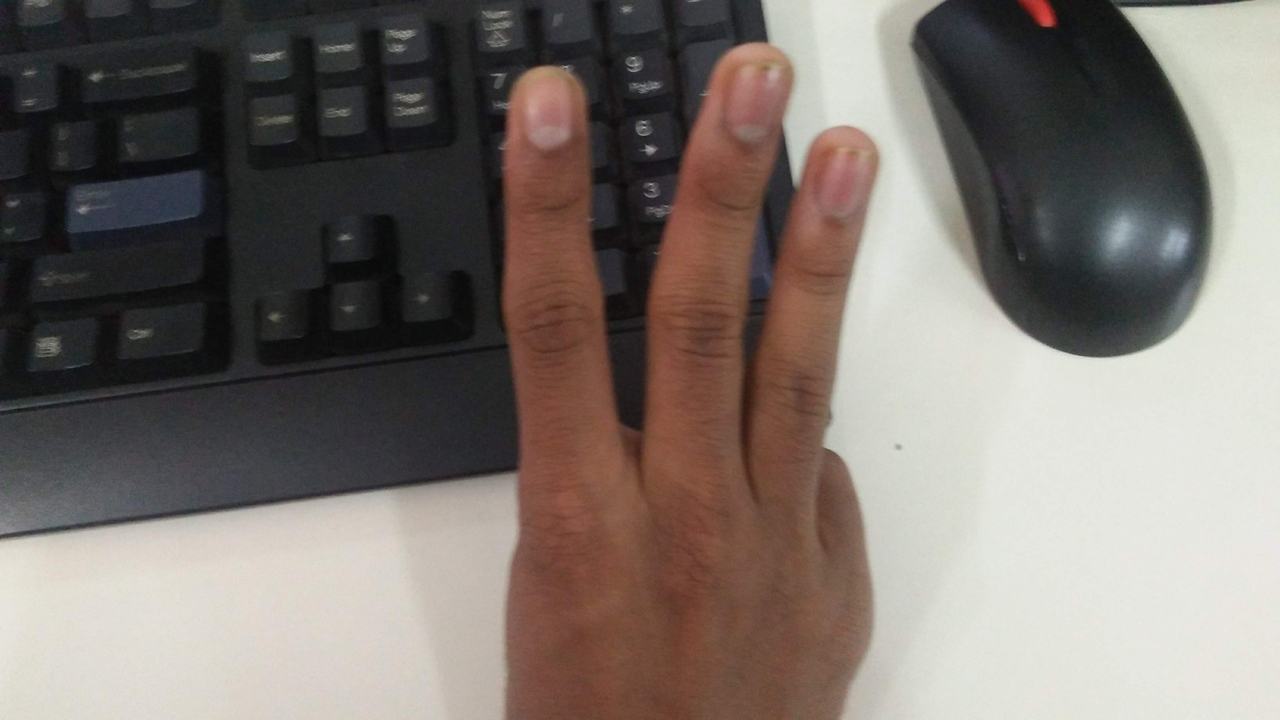fingertip: (496, 72, 588, 146), (800, 122, 888, 196), (716, 42, 794, 116)
